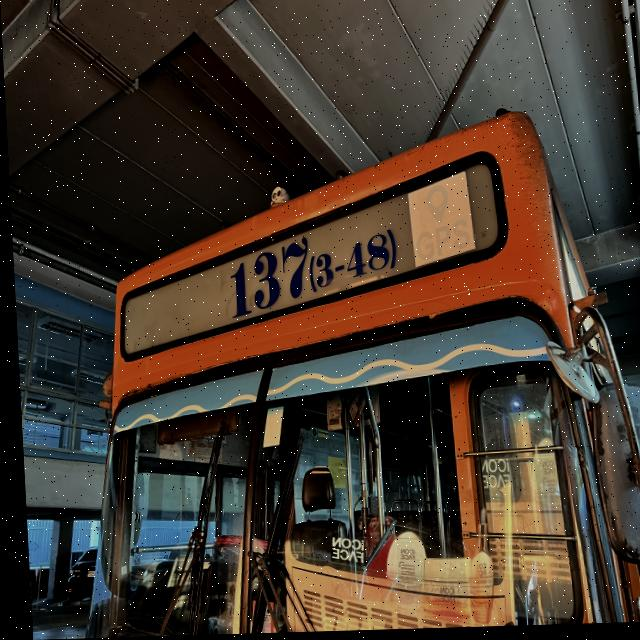BMTA-bus: (61, 111, 640, 639)
Bus-Line-Number: (224, 231, 399, 317)
